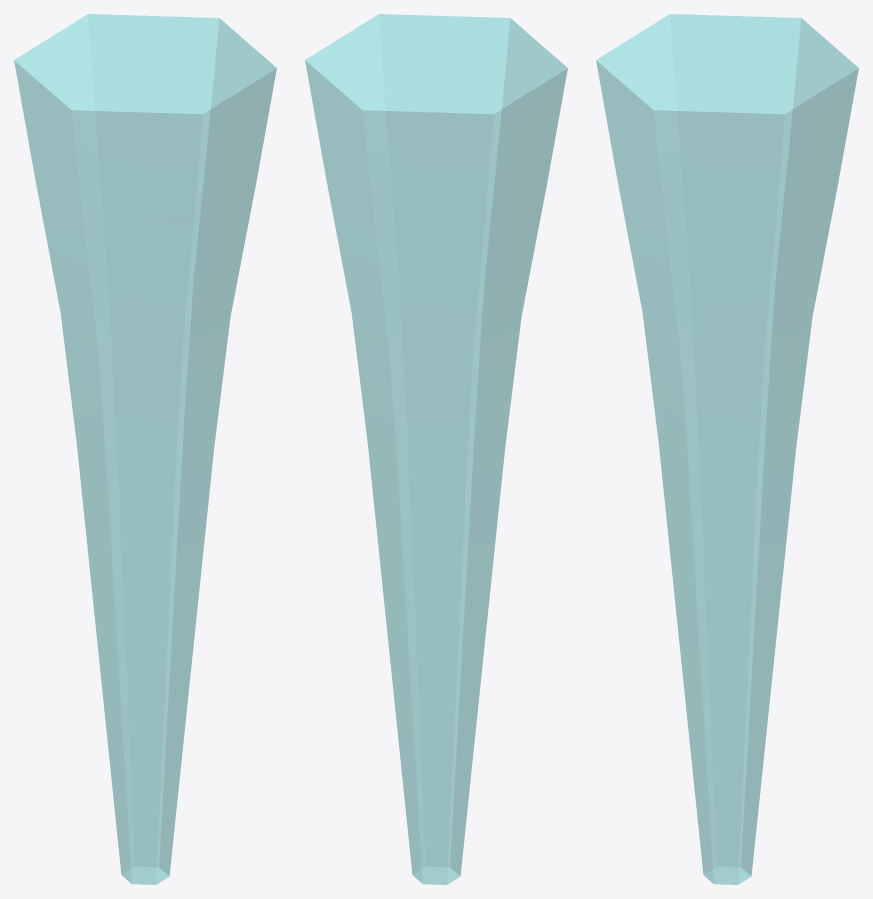
Rendered from Rock_Stalactite_Ice_01.fbx.
The picture shows the model from 3 angles, left to right: view 1: azimuth 30°, elevation 25°; view 2: azimuth 150°, elevation 25°; view 3: azimuth 270°, elevation 25°; orthographic projection.
Parts seen in each view (by area): view 1: Rock_Stalactite_Ice_01; view 2: Rock_Stalactite_Ice_01; view 3: Rock_Stalactite_Ice_01.
Part boxes in pixels (x1=…): Rock_Stalactite_Ice_01: x1=14, y1=14, x2=276, y2=884; Rock_Stalactite_Ice_01: x1=305, y1=14, x2=567, y2=884; Rock_Stalactite_Ice_01: x1=596, y1=14, x2=858, y2=884.
Size of the model in its own units: 9.22 by 34.83 by 10.23.
